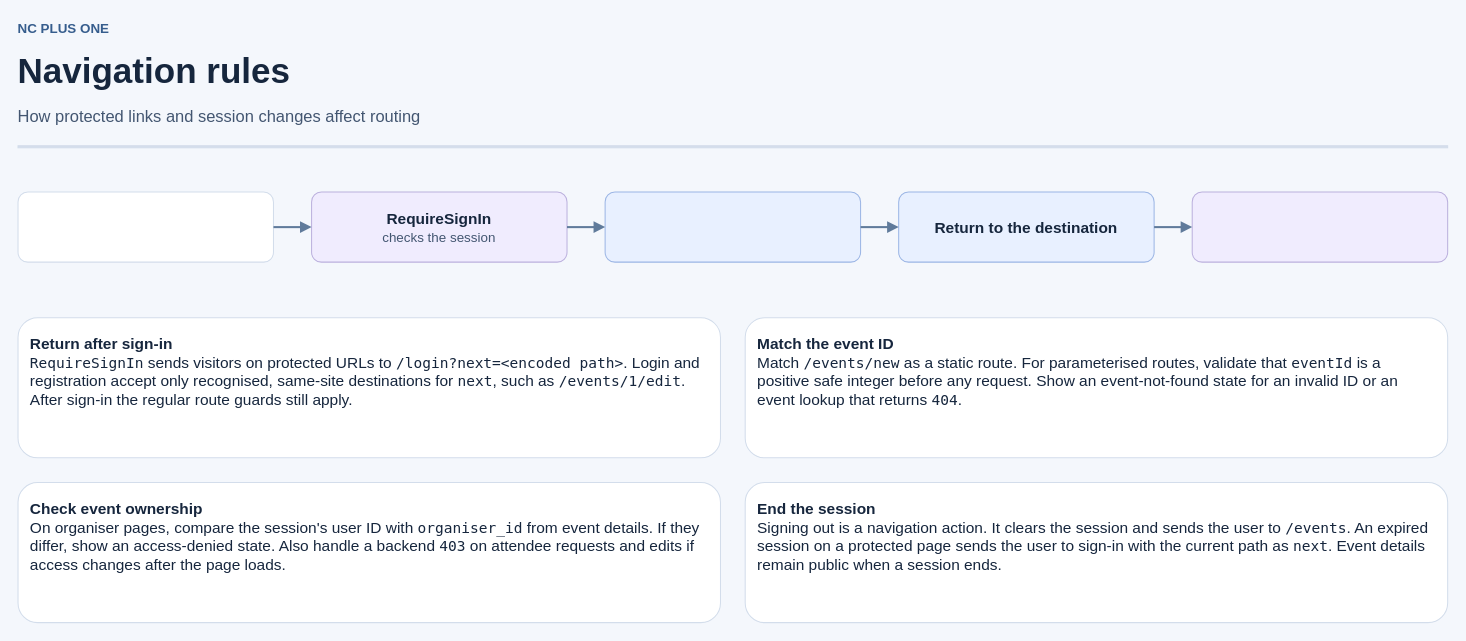
The diagram is 1466 pixels wide and 641 high, and some of its shapes have lost their labels. Each missing label, with the centre of its shape:
Apply the route guard: point (1319, 226)
Login preserves the next path: point (732, 226)
Protected URL signed-out visitor: point (145, 226)
